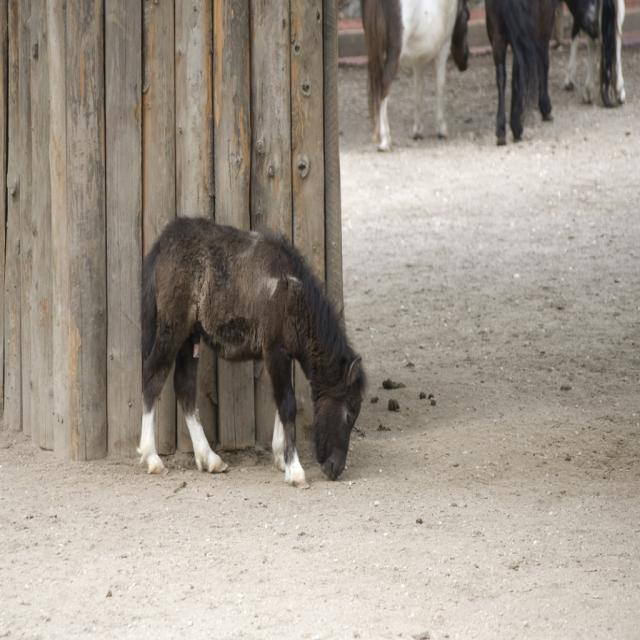Horse: (358, 0, 470, 154), (482, 0, 558, 146), (566, 0, 627, 109)
